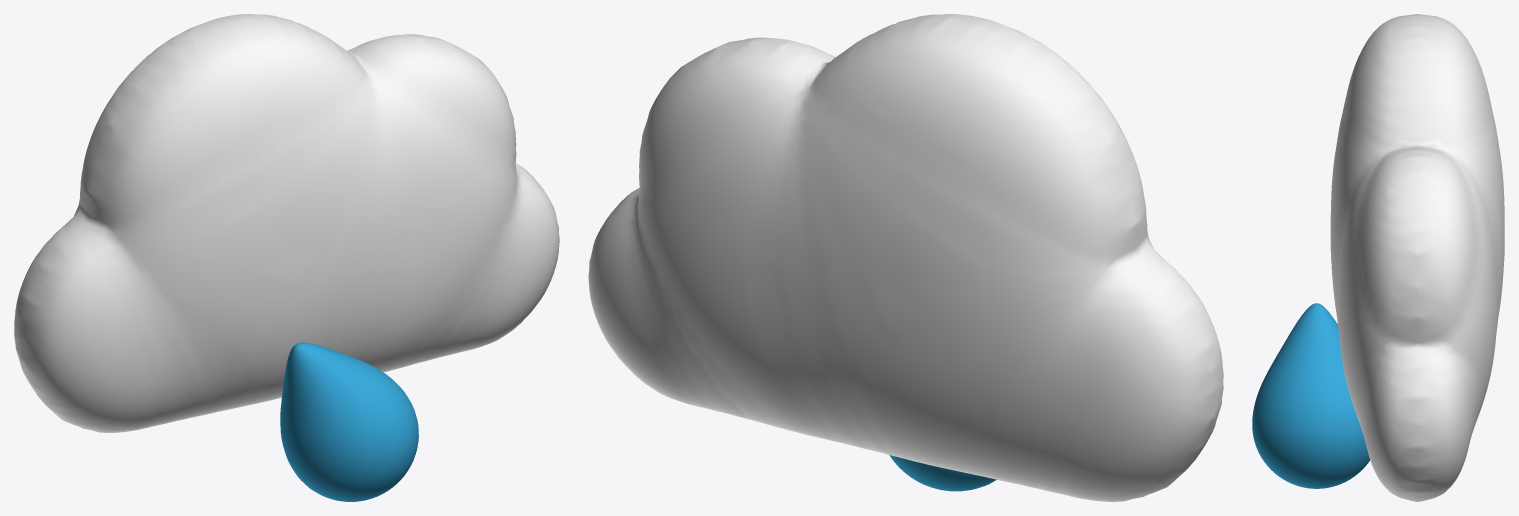
File: LightRain.glb
The picture shows the model from 3 angles, left to right: view 1: azimuth 30°, elevation 25°; view 2: azimuth 150°, elevation 25°; view 3: azimuth 270°, elevation 25°; orthographic projection. The views are drawn at different scales.
Parts seen in each view (by area): view 1: Object_41, node_id148_45; view 2: Object_41, node_id148_45; view 3: Object_41, node_id148_45.
Part boxes in pixels (x1=…): Object_41: x1=14, y1=14, x2=559, y2=432; node_id148_45: x1=280, y1=342, x2=418, y2=501; Object_41: x1=588, y1=14, x2=1223, y2=501; node_id148_45: x1=889, y1=455, x2=996, y2=491; Object_41: x1=1330, y1=14, x2=1504, y2=501; node_id148_45: x1=1252, y1=303, x2=1369, y2=488.
Size of the model in its own units: 0.1453 by 0.1174 by 0.0632.
Materials: 2 (2 with a texture image).
